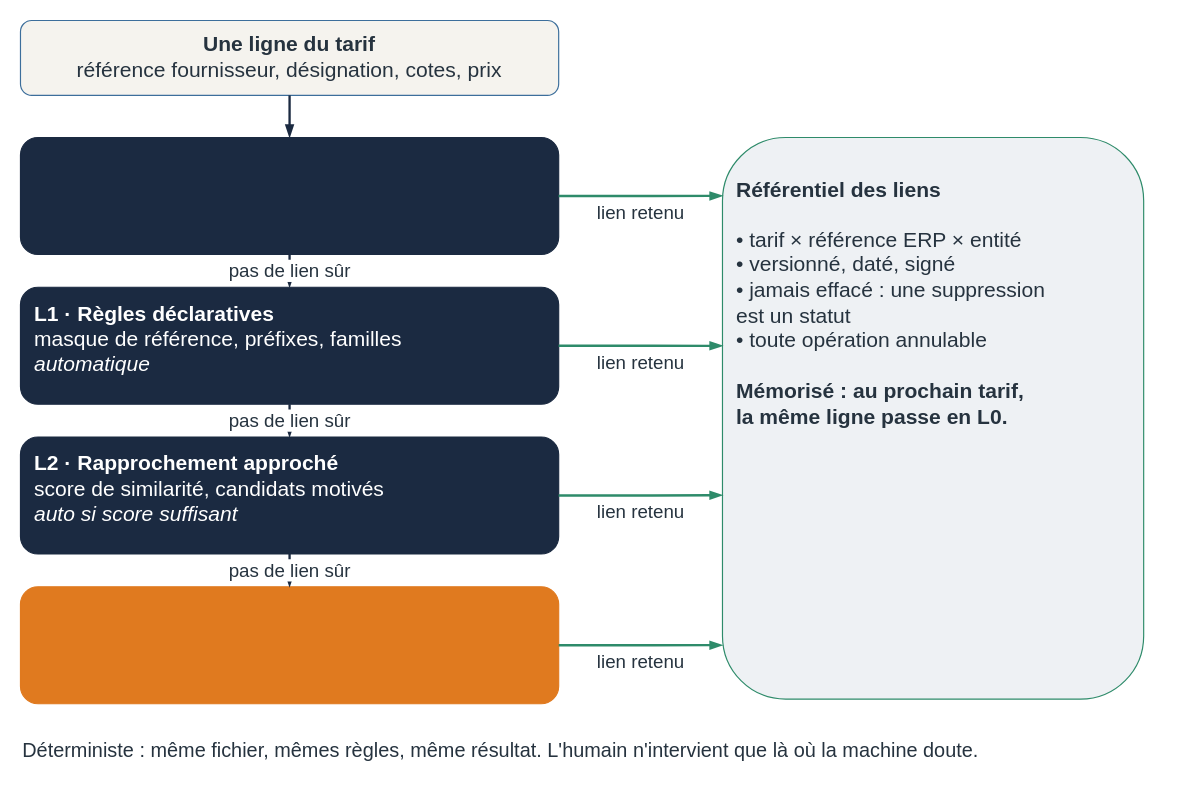
This 1188x790 diagram has some shape labels left out. The centre of each missing label's shape, as x and y in pixels:
L0 · Correspondance exacte le lien existe déjà dans le référentiel automatique: (289,195)
L3 · Arbitrage humain file triée par enjeu, au clavier l'acheteur décide: (289,645)
